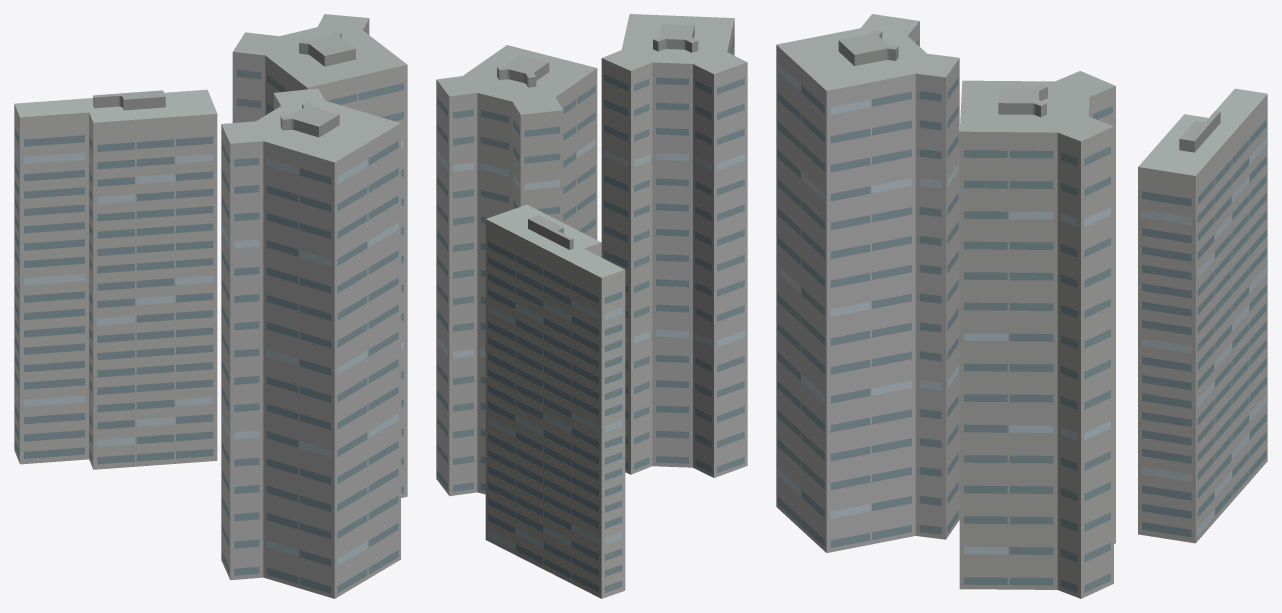
The model's file is apt-a14010001.glb.
The picture shows the model from 3 angles, left to right: view 1: azimuth 30°, elevation 25°; view 2: azimuth 150°, elevation 25°; view 3: azimuth 270°, elevation 25°; orthographic projection. The views are drawn at different scales.
Visible parts, largest first — view 1: apt-a14010001; view 2: apt-a14010001; view 3: apt-a14010001.
Boxes of the visible parts, left/top/right/bottom form: apt-a14010001: left=14, top=14, right=407, bottom=598; apt-a14010001: left=436, top=14, right=747, bottom=598; apt-a14010001: left=776, top=14, right=1267, bottom=598.
Bounding box in the file's own units: 64.75 × 100 × 94.09.
